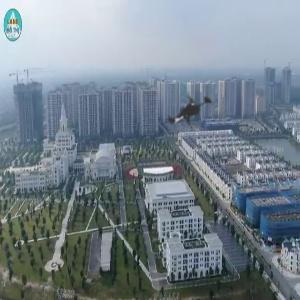drone: (140, 62, 236, 158)
